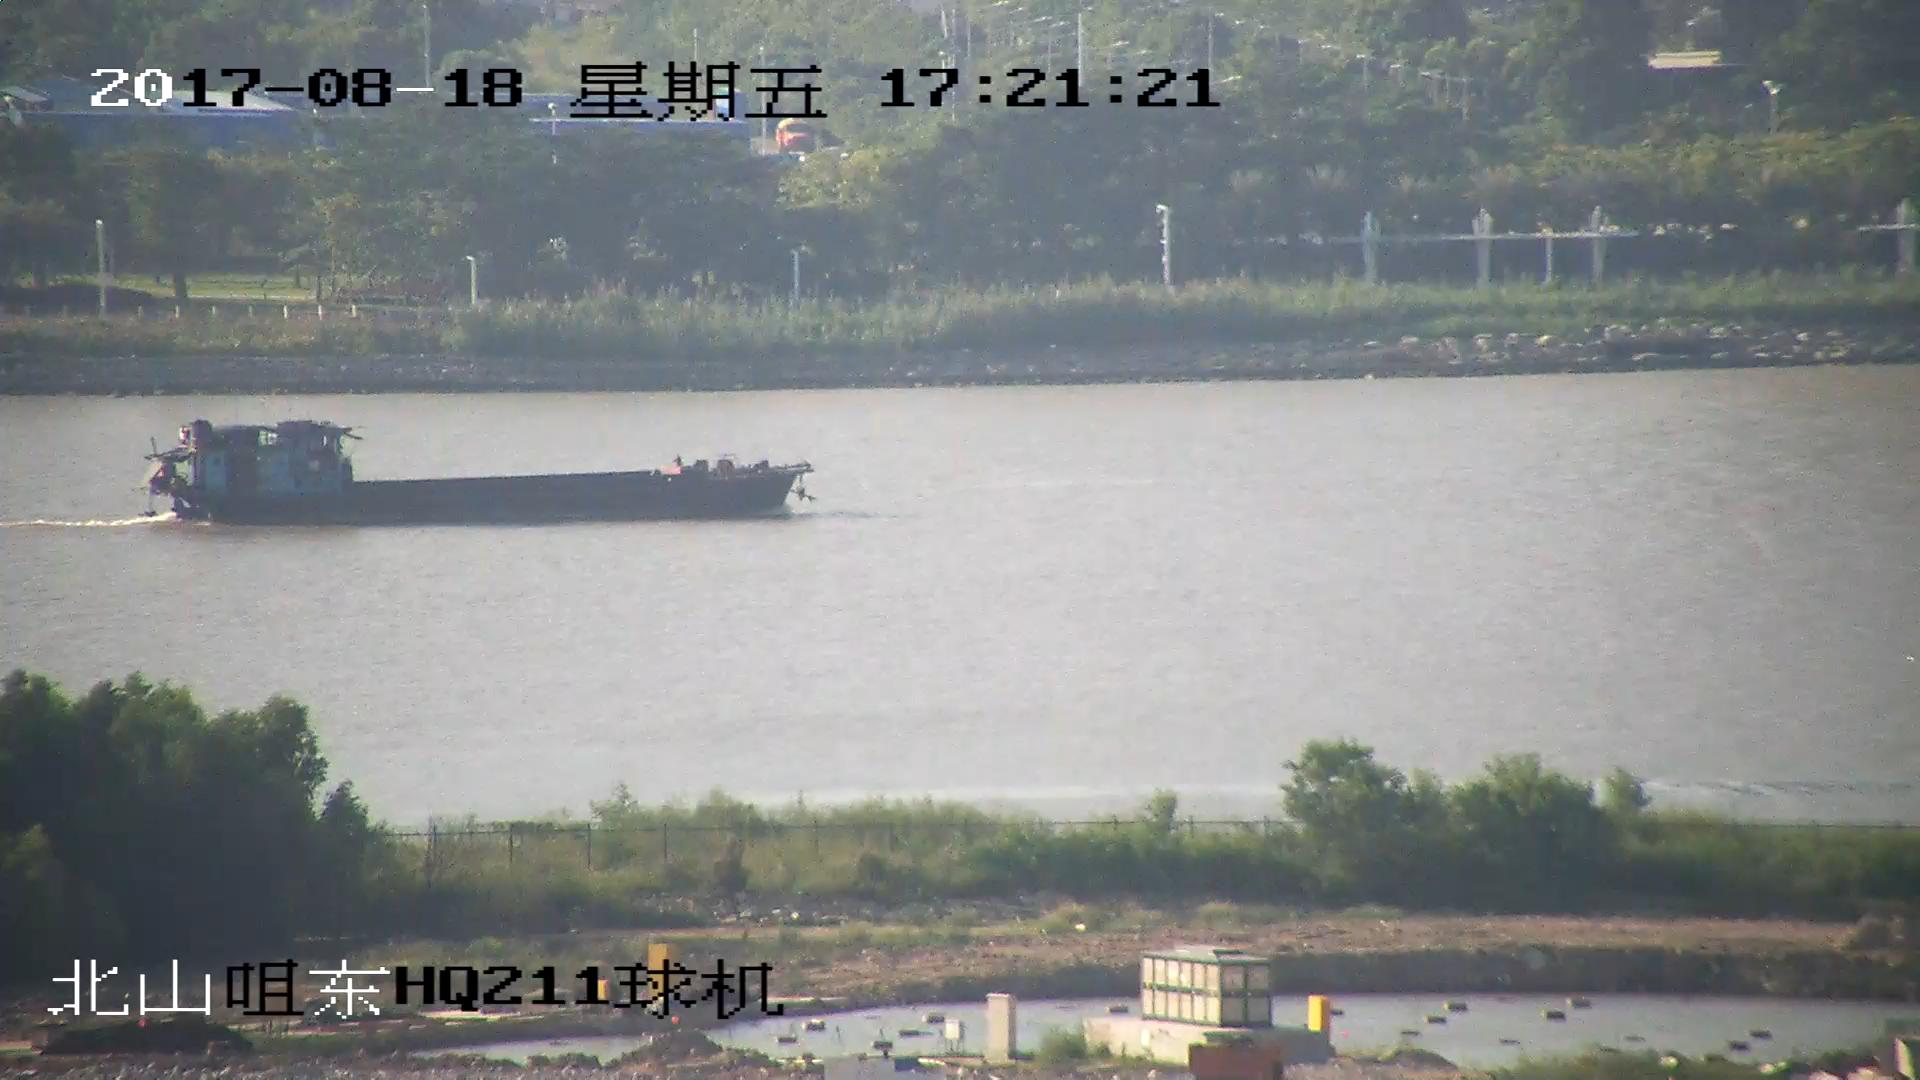bulk cargo carrier: (142, 423, 811, 527)
